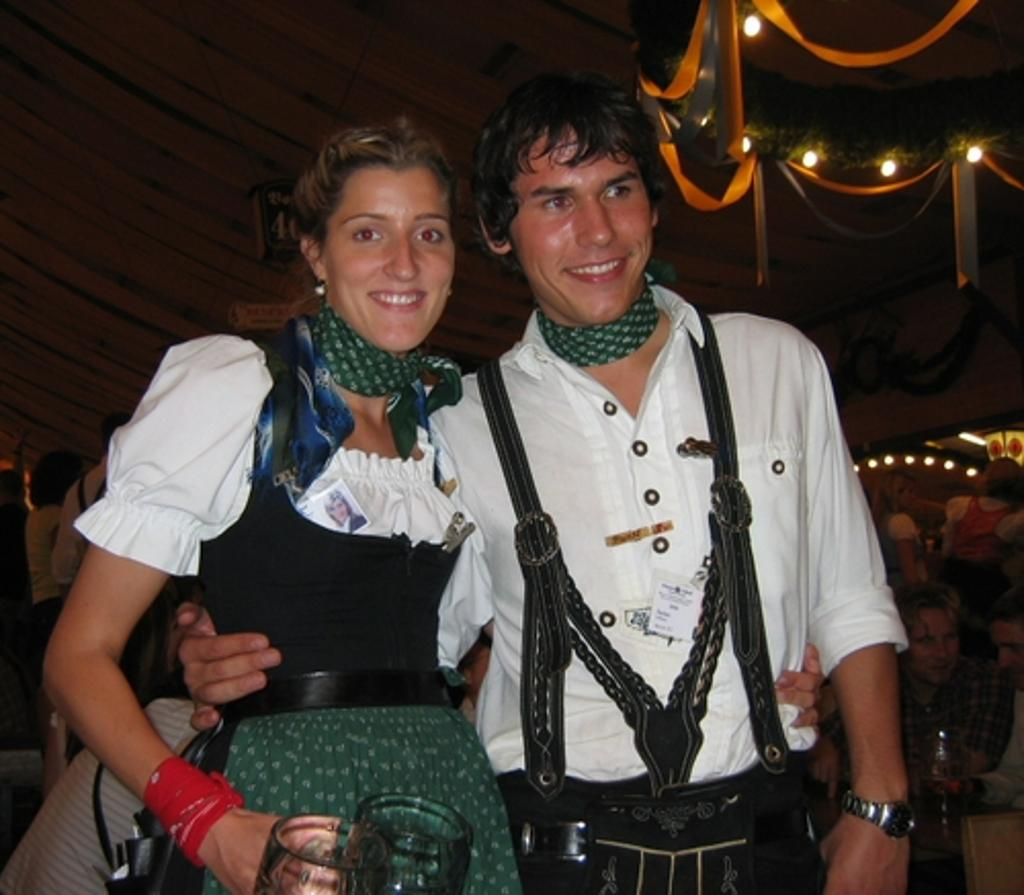face: (506, 124, 650, 324), (324, 164, 454, 352)
